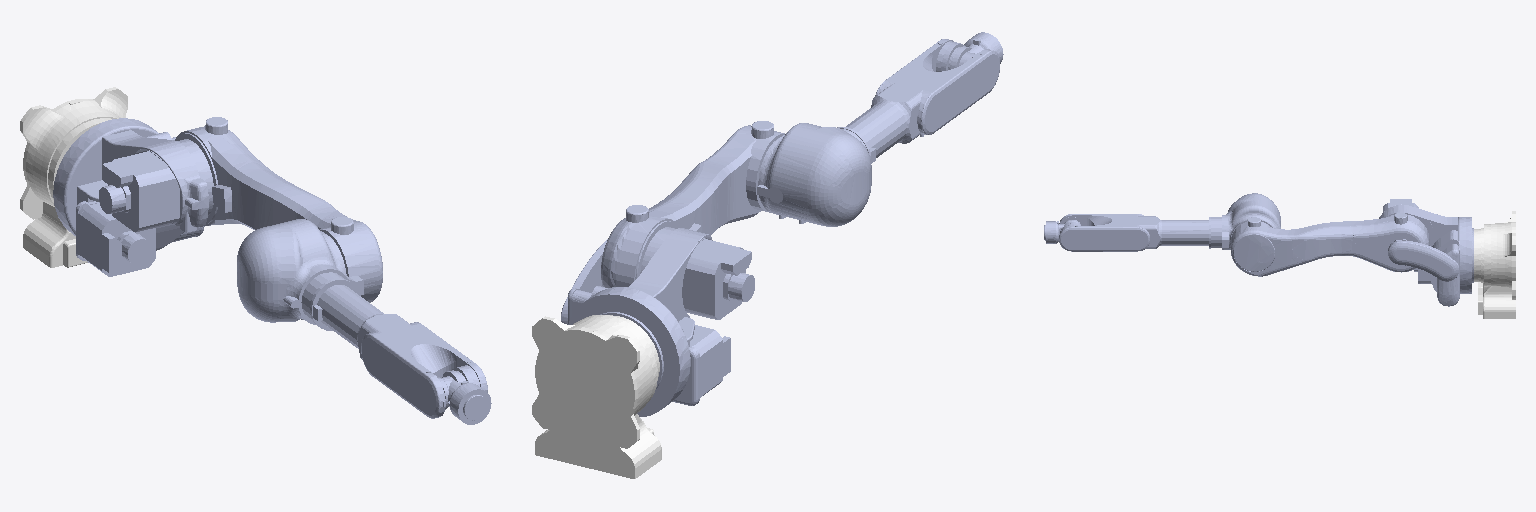
robot.urdf — kawasaki:
<?xml version="1.0" encoding="utf-8"?>
<!-- This URDF was automatically created by SolidWorks to URDF Exporter! Originally created by [author] ([email redacted]) 
     Commit Version: 1.6.0-1-g15f4949  Build Version: 1.6.7594.29634
     For more information, please see http://wiki.ros.org/sw_urdf_exporter -->
<robot
  name="kawasaki">
  <link
    name="base_link">
    <inertial>
      <origin
        xyz="-3.08162842587612E-07 -0.109081855019185 -0.067947865949138"
        rpy="0 0 0" />
      <mass
        value="37.3829538775312" />
      <inertia
        ixx="0.929664139496839"
        ixy="1.29477028729184E-06"
        ixz="6.68514908957595E-06"
        iyy="1.12202674947713"
        iyz="0.0111227480584052"
        izz="0.537782354885352" />
    </inertial>
    <visual>
      <origin
        xyz="0 0 0"
        rpy="0 0 0" />
      <geometry>
        <mesh
          filename="meshes/base_link.STL" />
      </geometry>
      <material
        name="">
        <color
          rgba="1 1 1 1" />
      </material>
    </visual>
    <collision>
      <origin
        xyz="0 0 0"
        rpy="0 0 0" />
      <geometry>
        <mesh
          filename="meshes/base_link.STL" />
      </geometry>
    </collision>
  </link>
  <link
    name="link1">
    <inertial>
      <origin
        xyz="0.0553055951908217 0.0945211091525019 0.4374367364583"
        rpy="0 0 0" />
      <mass
        value="129.823273950382" />
      <inertia
        ixx="84.3428217383557"
        ixy="-0.419584601734661"
        ixz="0.370740130639532"
        iyy="83.6435445019658"
        iyz="-8.41947797761416"
        izz="4.49988488438204" />
    </inertial>
    <visual>
      <origin
        xyz="0 0 0"
        rpy="0 0 0" />
      <geometry>
        <mesh
          filename="meshes/link1.STL" />
      </geometry>
      <material
        name="">
        <color
          rgba="0.792156862745098 0.819607843137255 0.933333333333333 1" />
      </material>
    </visual>
    <collision>
      <origin
        xyz="0 0 0"
        rpy="0 0 0" />
      <geometry>
        <mesh
          filename="meshes/link1.STL" />
      </geometry>
    </collision>
  </link>
  <joint
    name="joint1"
    type="revolute">
    <origin
      xyz="0 -0.68 0"
      rpy="1.5708 0 0" />
    <parent
      link="base_link" />
    <child
      link="link1" />
    <axis
      xyz="0 0 -1" />
    <limit
      lower="-3.1415926"
      upper="3.1415926"
      effort="100"
      velocity="1" />
  </joint>
  <link
    name="link2">
    <inertial>
      <origin
        xyz="0.192365966401982 0.158003615373665 0.398487643745062"
        rpy="0 0 0" />
      <mass
        value="41.2261803835097" />
      <inertia
        ixx="5.35621848884352"
        ixy="0.00619156094501983"
        ixz="-0.258058473985364"
        iyy="5.21695188245816"
        iyz="0.058510703313495"
        izz="0.327369506314556" />
    </inertial>
    <visual>
      <origin
        xyz="0 0 0"
        rpy="0 0 0" />
      <geometry>
        <mesh
          filename="meshes/link2.STL" />
      </geometry>
      <material
        name="">
        <color
          rgba="0.792156862745098 0.819607843137255 0.933333333333333 1" />
      </material>
    </visual>
    <collision>
      <origin
        xyz="0 0 0"
        rpy="0 0 0" />
      <geometry>
        <mesh
          filename="meshes/link2.STL" />
      </geometry>
    </collision>
  </link>
  <joint
    name="joint2"
    type="revolute">
    <origin
      xyz="0 0 0"
      rpy="0 0 0" />
    <parent
      link="link1" />
    <child
      link="link2" />
    <axis
      xyz="1 0 0" />
    <limit
      lower="-1.396263"
      upper="2.35619"
      effort="100"
      velocity="1" />
  </joint>
  <link
    name="link3">
    <inertial>
      <origin
        xyz="-0.0256800336127049 0.0209151467998271 0.027813531111182"
        rpy="0 0 0" />
      <mass
        value="29.419280357951" />
      <inertia
        ixx="0.469840697821872"
        ixy="0.020236644140032"
        ixz="-0.0188683617989296"
        iyy="0.515591974909332"
        iyz="0.0191700130871704"
        izz="0.407640115492738" />
    </inertial>
    <visual>
      <origin
        xyz="0 0 0"
        rpy="0 0 0" />
      <geometry>
        <mesh
          filename="meshes/link3.STL" />
      </geometry>
      <material
        name="">
        <color
          rgba="0.792156862745098 0.819607843137255 0.933333333333333 1" />
      </material>
    </visual>
    <collision>
      <origin
        xyz="0 0 0"
        rpy="0 0 0" />
      <geometry>
        <mesh
          filename="meshes/link3.STL" />
      </geometry>
    </collision>
  </link>
  <joint
    name="joint3"
    type="revolute">
    <origin
      xyz="0 0.15 0.87"
      rpy="0 0 0" />
    <parent
      link="link2" />
    <child
      link="link3" />
    <axis
      xyz="1 0 0" />
    <limit
      lower="-3.0019"
      upper="2.059488"
      effort="100"
      velocity="1" />
  </joint>
  <link
    name="link4">
    <inertial>
      <origin
        xyz="0.000940056491530902 -1.98672216502327E-05 -0.387602135354756"
        rpy="0 0 0" />
      <mass
        value="18.9656635819367" />
      <inertia
        ixx="0.959400720411957"
        ixy="-6.35613475676644E-06"
        ixz="-0.00867065281673685"
        iyy="0.988459071663896"
        iyz="-7.34134326486142E-05"
        izz="0.0967044459330981" />
    </inertial>
    <visual>
      <origin
        xyz="0 0 0"
        rpy="0 0 0" />
      <geometry>
        <mesh
          filename="meshes/link4.STL" />
      </geometry>
      <material
        name="">
        <color
          rgba="0.792156862745098 0.819607843137255 0.933333333333333 1" />
      </material>
    </visual>
    <collision>
      <origin
        xyz="0 0 0"
        rpy="0 0 0" />
      <geometry>
        <mesh
          filename="meshes/link4.STL" />
      </geometry>
    </collision>
  </link>
  <joint
    name="joint4"
    type="revolute">
    <origin
      xyz="0 0 1.08"
      rpy="0 0 0" />
    <parent
      link="link3" />
    <child
      link="link4" />
    <axis
      xyz="0 0 -1" />
    <limit
      lower="-6.283185"
      upper="6.283185"
      effort="100"
      velocity="1" />
  </joint>
  <link
    name="link5">
    <inertial>
      <origin
        xyz="-0.00467494438196554 8.3275842298669E-05 0.0481092405298016"
        rpy="0 0 0" />
      <mass
        value="2.76231101112489" />
      <inertia
        ixx="0.0136530306794249"
        ixy="-1.12628006173521E-06"
        ixz="-0.000483160576575043"
        iyy="0.0144220224402568"
        iyz="-7.98539091922481E-06"
        izz="0.00645305855269832" />
    </inertial>
    <visual>
      <origin
        xyz="0 0 0"
        rpy="0 0 0" />
      <geometry>
        <mesh
          filename="meshes/link5.STL" />
      </geometry>
      <material
        name="">
        <color
          rgba="0.792156862745098 0.819607843137255 0.933333333333333 1" />
      </material>
    </visual>
    <collision>
      <origin
        xyz="0 0 0"
        rpy="0 0 0" />
      <geometry>
        <mesh
          filename="meshes/link5.STL" />
      </geometry>
    </collision>
  </link>
  <joint
    name="joint5"
    type="revolute">
    <origin
      xyz="0 0 0"
      rpy="0 0 0" />
    <parent
      link="link4" />
    <child
      link="link5" />
    <axis
      xyz="1 0 0" />
    <limit
      lower="-2.530727"
      upper="2.530727"
      effort="100"
      velocity="1" />
  </joint>
  <link
    name="link6">
    <inertial>
      <origin
        xyz="5.13651112590621E-07 1.89655431054314E-07 -0.00477104697180319"
        rpy="0 0 0" />
      <mass
        value="0.0655879689624901" />
      <inertia
        ixx="3.65331398904695E-05"
        ixy="-1.94415963972605E-10"
        ixz="3.91159205244618E-11"
        iyy="3.65298345363842E-05"
        iyz="-1.49421687770257E-11"
        izz="7.20828032300138E-05" />
    </inertial>
    <visual>
      <origin
        xyz="0 0 0"
        rpy="0 0 0" />
      <geometry>
        <mesh
          filename="meshes/link6.STL" />
      </geometry>
      <material
        name="">
        <color
          rgba="0.792156862745098 0.819607843137255 0.933333333333333 1" />
      </material>
    </visual>
    <collision>
      <origin
        xyz="0 0 0"
        rpy="0 0 0" />
      <geometry>
        <mesh
          filename="meshes/link6.STL" />
      </geometry>
    </collision>
  </link>
  <joint
    name="joint6"
    type="revolute">
    <origin
      xyz="0 0 0.165"
      rpy="0 0 0" />
    <parent
      link="link5" />
    <child
      link="link6" />
    <axis
      xyz="0 0 -1" />
    <limit
      lower="-6.2831853"
      upper="6.2831853"
      effort="100"
      velocity="1" />
  </joint>
</robot>

--- What the picture shows (computed from the rendered views, not written in the file) ---
Views: 3 orthographic renders of the robot side by side, from view 1: azimuth 30°, elevation 25°; view 2: azimuth 150°, elevation 25°; view 3: azimuth 270°, elevation 25°.
Robot: kawasaki — 7 links, 6 joints (6 revolute); root link base_link; default pose: all joints at 0.
Visible links, largest first — view 1: link1, link2, link4, link3, base_link, link5; view 2: link1, base_link, link2, link3, link4, link5; view 3: link2, link1, link4, base_link, link3.
Link boxes in pixels (left/top/right/bottom): link1: left=53, top=118, right=217, bottom=276; link2: left=175, top=117, right=382, bottom=302; link4: left=313, top=285, right=487, bottom=418; link3: left=237, top=219, right=363, bottom=330; base_link: left=20, top=87, right=127, bottom=267; link5: left=437, top=367, right=491, bottom=424; link1: left=561, top=221, right=754, bottom=416; base_link: left=532, top=315, right=661, bottom=478; link2: left=601, top=121, right=784, bottom=287; link3: left=757, top=123, right=871, bottom=226; link4: left=846, top=39, right=999, bottom=163; link5: left=941, top=32, right=1003, bottom=71; link2: left=1231, top=213, right=1429, bottom=276; link1: left=1379, top=199, right=1473, bottom=306; link4: left=1059, top=214, right=1208, bottom=251; base_link: left=1474, top=211, right=1515, bottom=318; link3: left=1209, top=193, right=1280, bottom=249.
Bounding box of the posed robot: 0.567 × 2.79 × 0.67 m (x, y, z).
Meshes: 7 distinct files referenced, 7 mesh visuals loaded (7 binary STL).